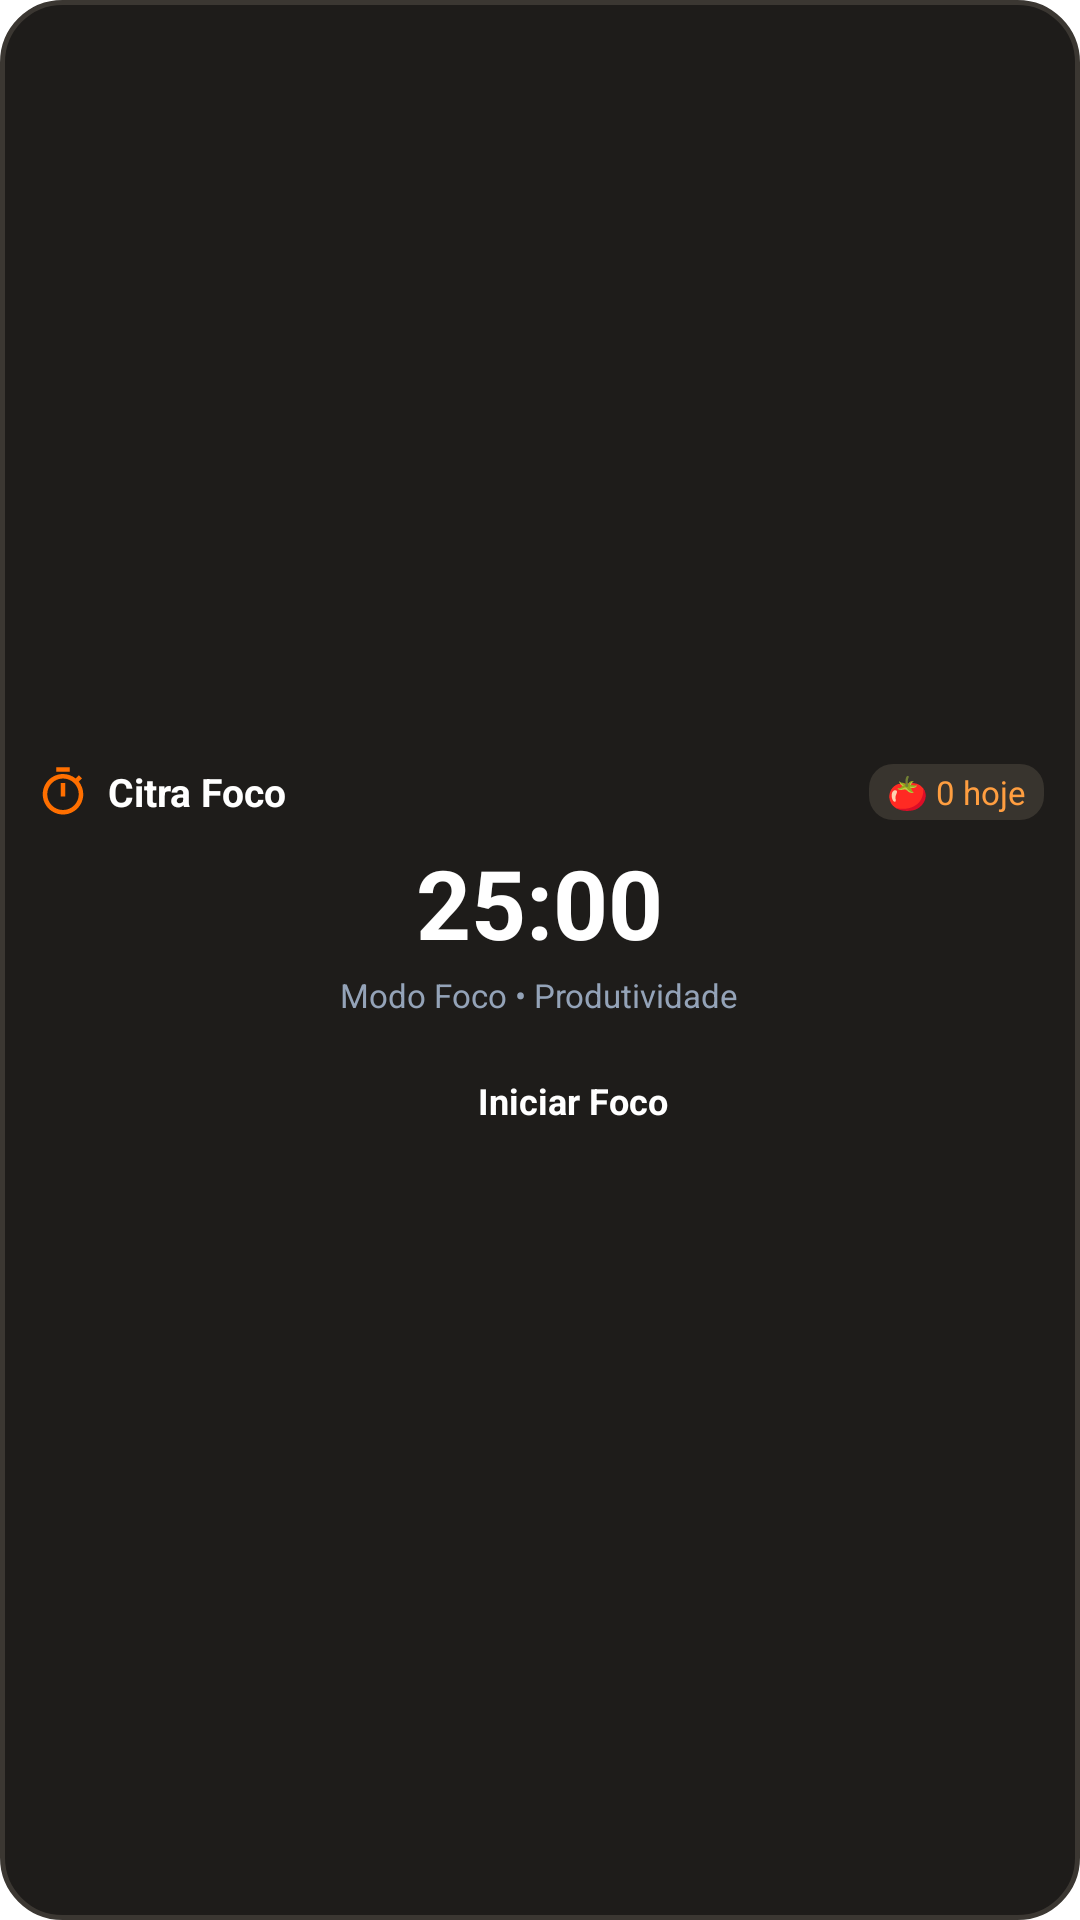

Named icons in this screenshot (1080px x 1920px) and their bounding boxes, BBox(x1, y1, x2, y2):
widget timer: BBox(42, 767, 84, 815)
